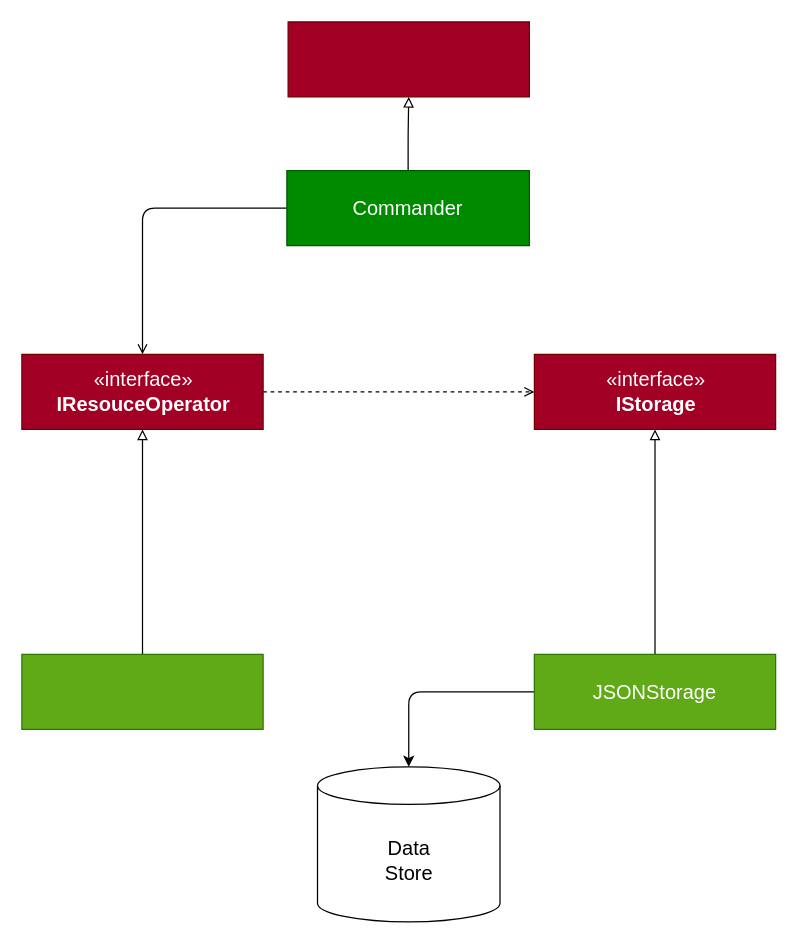
This 798x944 diagram has some shape labels left out. The shapes that lost their labels are listed below. From the top down, each one's centre as x and y in pixels, then its label:
[408,59]: «interface» ICommander
[142,691]: CollectOperator
